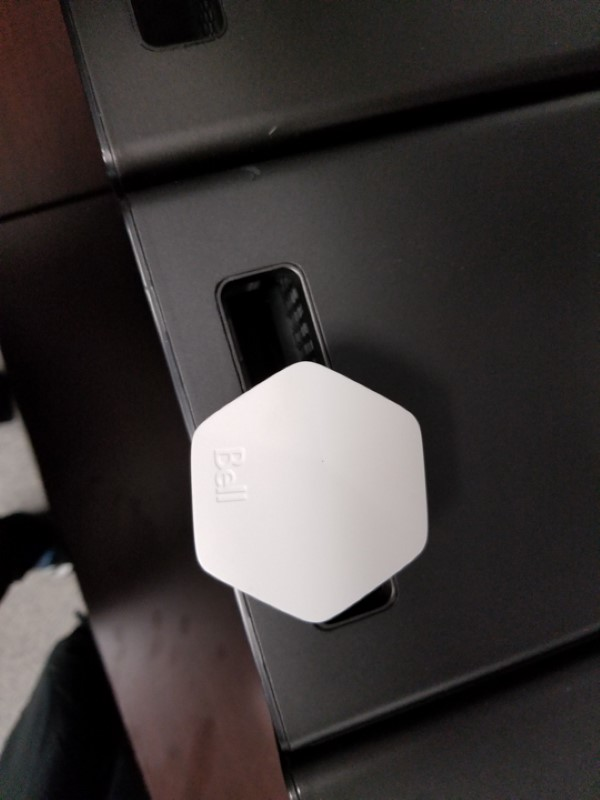pod: (182, 356, 439, 631)
